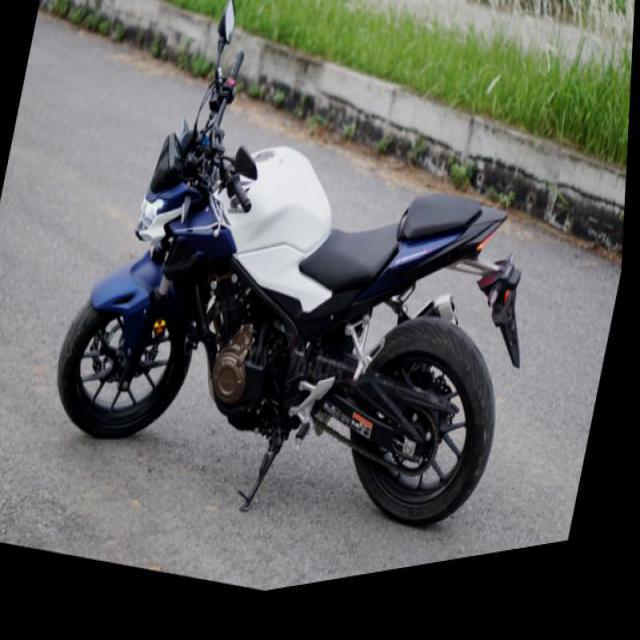CB500F: (30, 54, 557, 632)
